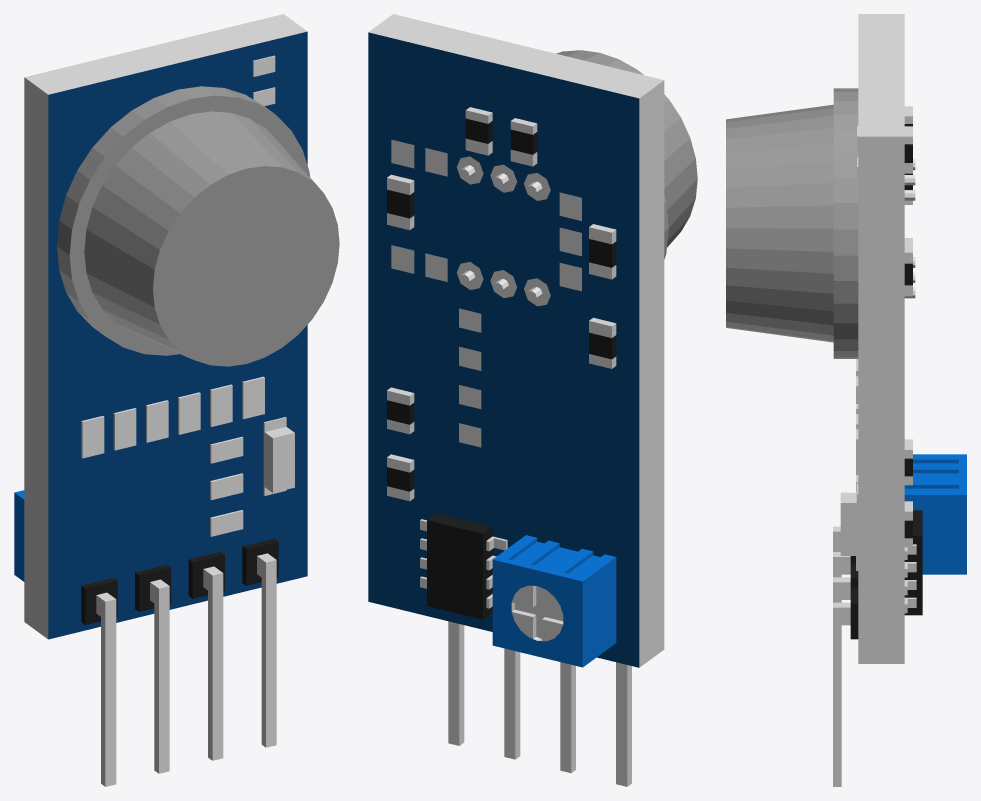
Rendered from GasSensor.glb.
3 renders of one model, left to right at view 1: azimuth 30°, elevation 25°; view 2: azimuth 150°, elevation 25°; view 3: azimuth 270°, elevation 25°, orthographic. The views are drawn at different scales.
Parts seen in each view (by area): view 1: Gas Sensor; view 2: Gas Sensor; view 3: Gas Sensor.
Boxes of the visible parts, box(x1,y1,x2,y2) form: Gas Sensor: box(14, 14, 339, 786); Gas Sensor: box(368, 14, 697, 786); Gas Sensor: box(726, 14, 966, 786).
Bounding box in the file's own units: 0.3436 × 0.8777 × 0.2852.
